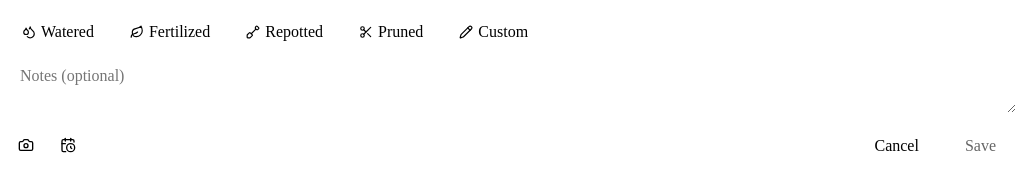
CareEntryForm › disables save until an event type is selected
expect the button "Save" is disabled: met, box left=945, top=128, right=1016, bottom=163
Click the button "Watered" at (58, 32), box left=8, top=16, right=108, bottom=47
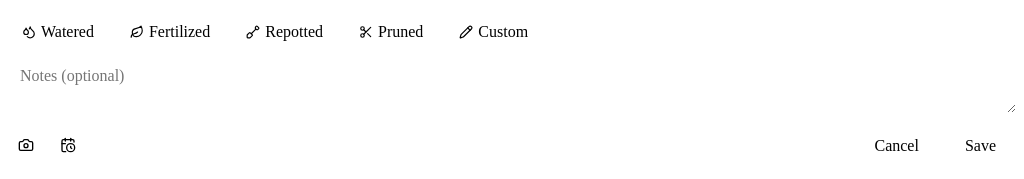
expect the button "Save" is enabled: met, box left=945, top=128, right=1016, bottom=163
